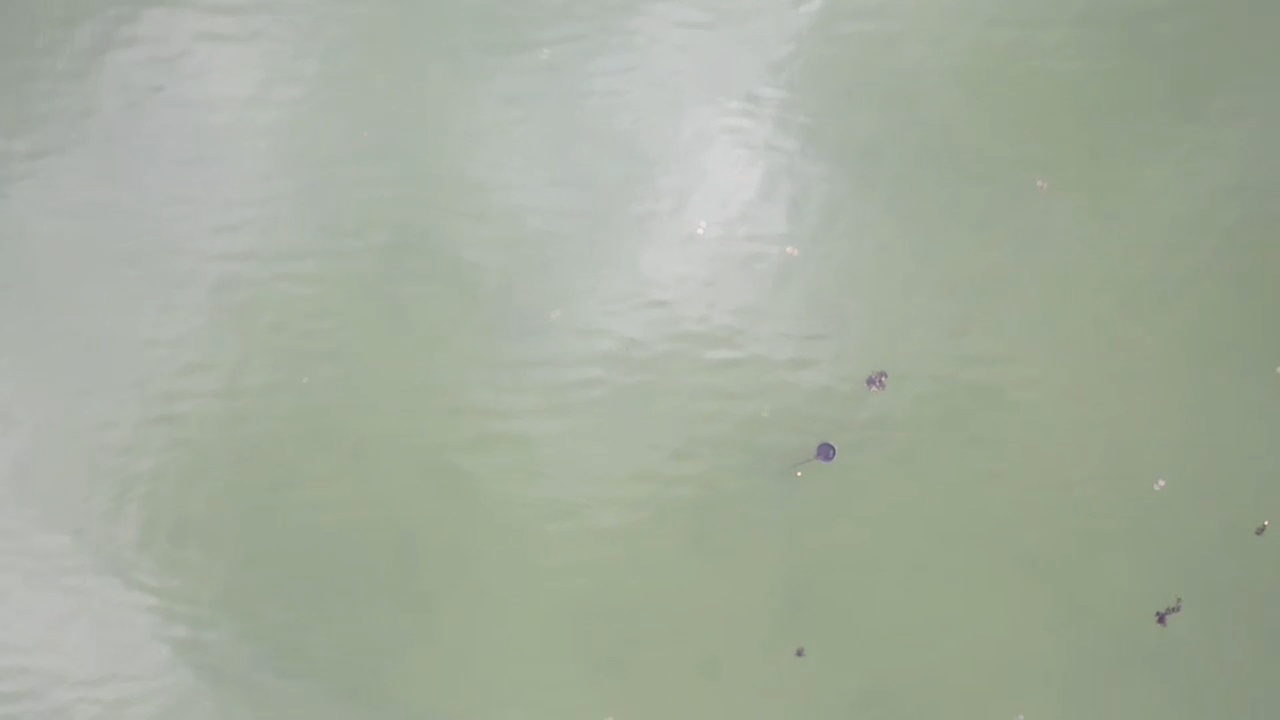meduse: (786, 242, 800, 258), (695, 222, 707, 236), (1034, 177, 1046, 189), (1153, 479, 1164, 491), (1187, 670, 1199, 679), (549, 309, 559, 319), (607, 710, 617, 719)
